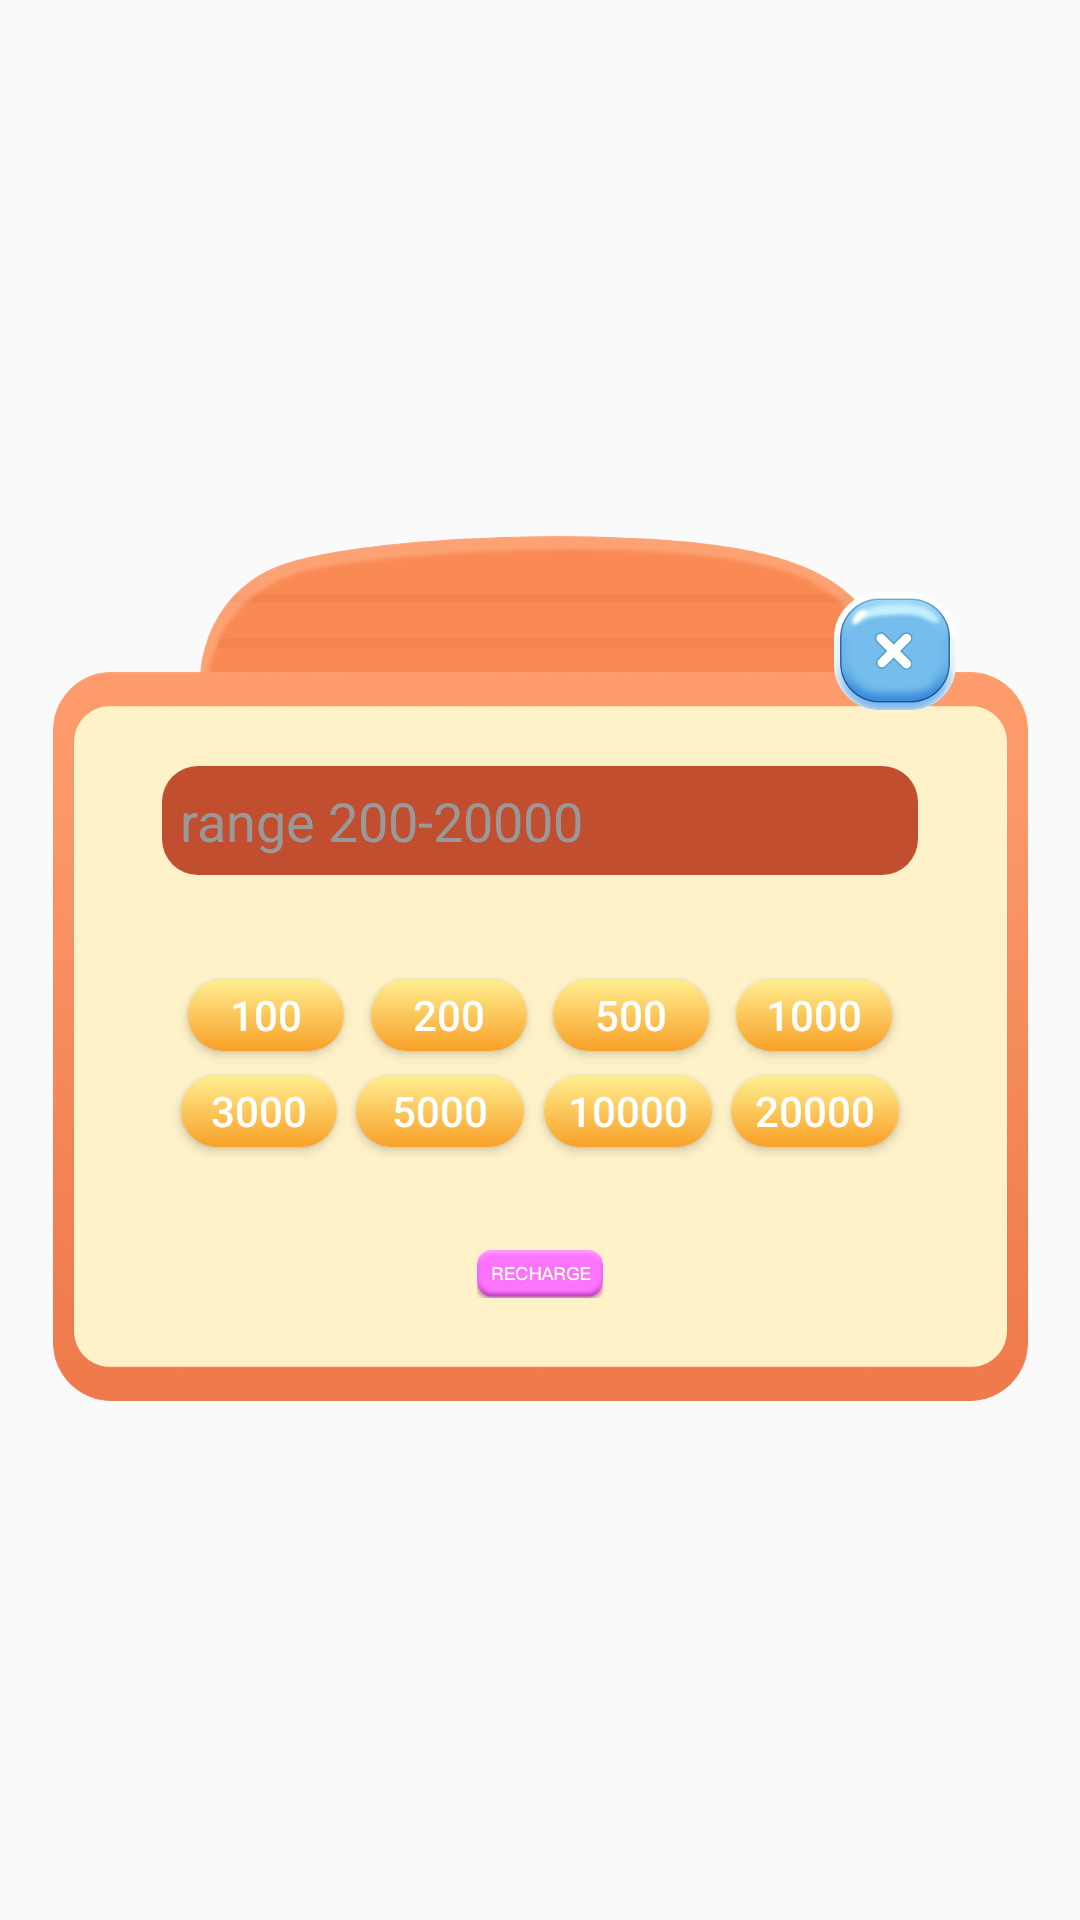

Named icons in this screenshot (1080px×1920px) and their centers, [x,y]:
link close: [895,650]
